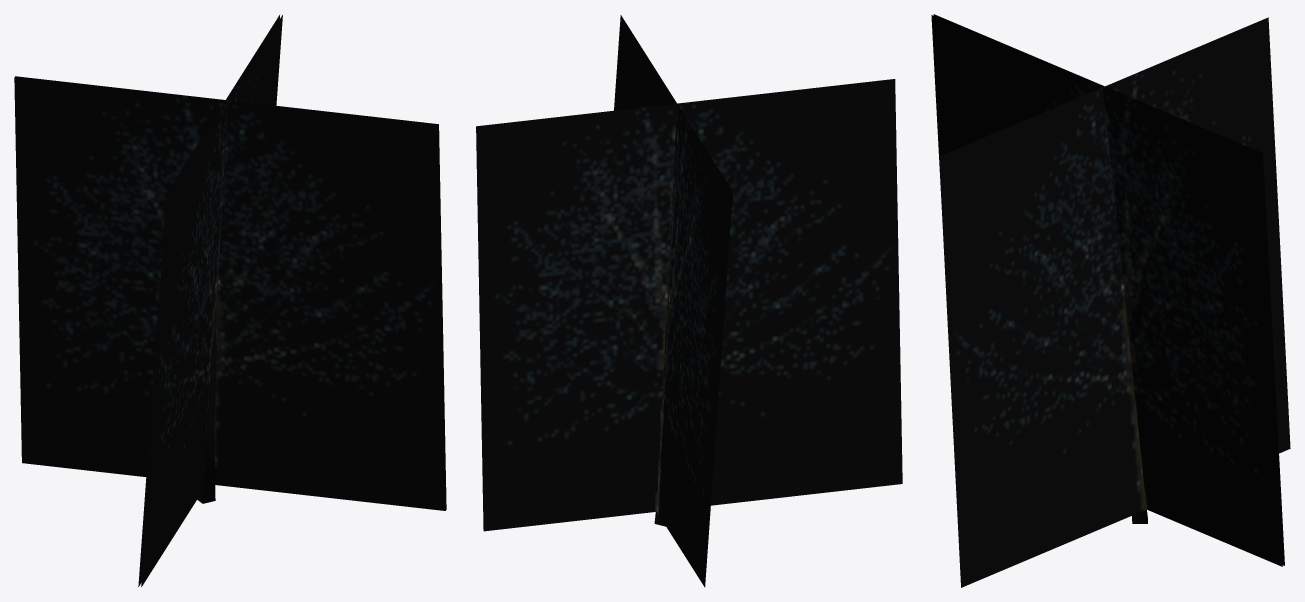
Rendered from tree004.fbx.
3 renders of one model, left to right at view 1: azimuth 30°, elevation 25°; view 2: azimuth 150°, elevation 25°; view 3: azimuth 270°, elevation 25°, orthographic. The views are drawn at different scales.
Parts seen in each view (by area): view 1: tree004, tree004_trunk; view 2: tree004; view 3: tree004.
Part boxes in pixels (<box>): tree004: <box>14,15,446,586</box>; tree004_trunk: <box>197,325,216,503</box>; tree004: <box>476,15,902,587</box>; tree004: <box>931,14,1290,587</box>.
Bounding box in the file's own units: 245 × 310 × 231.
Materials: 1 (1 with a texture image).
